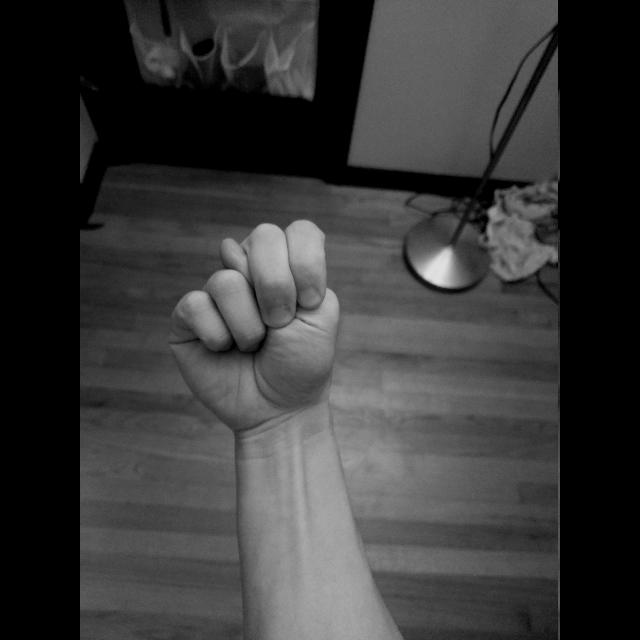N: (162, 217, 346, 436)
